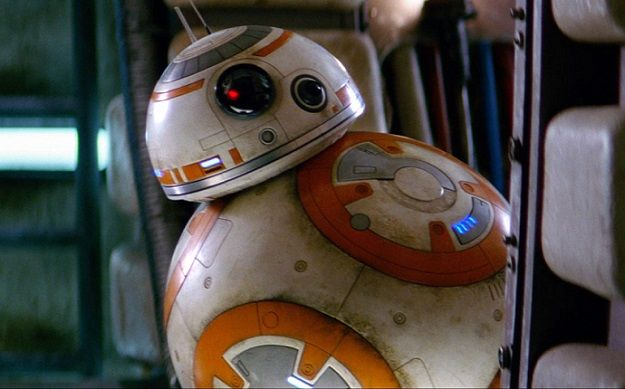bb8: (144, 24, 509, 388)
